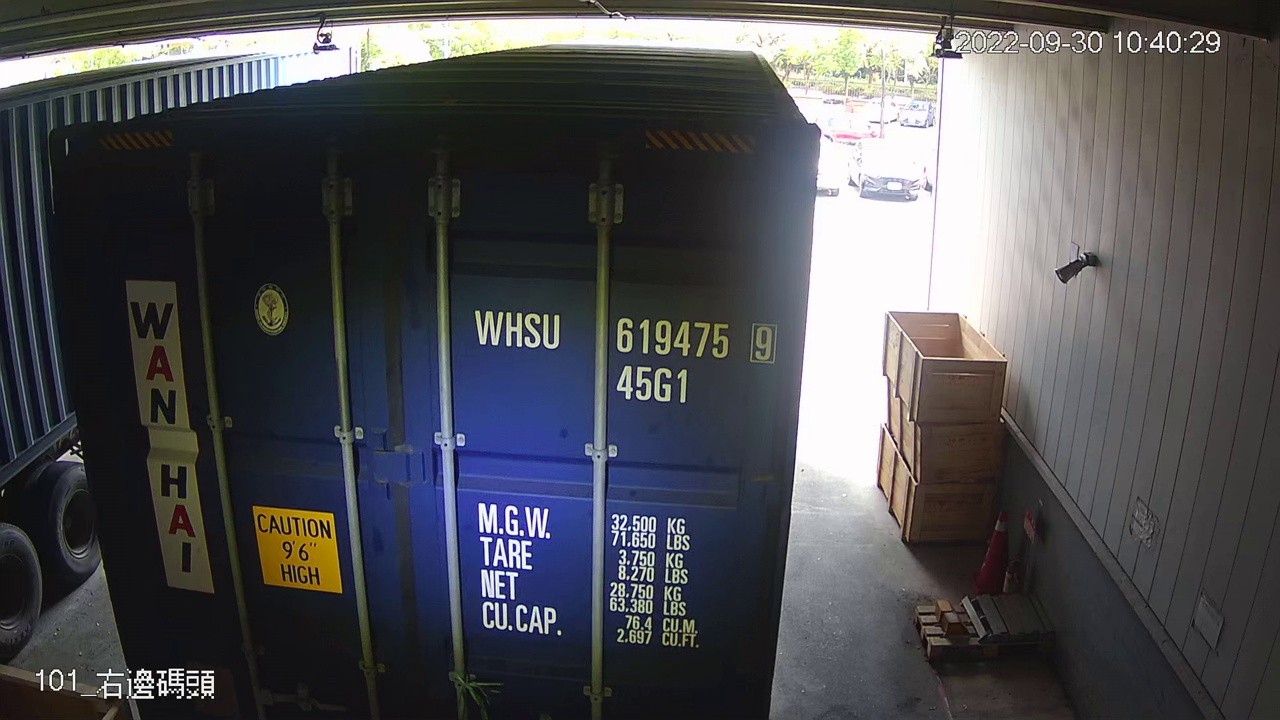container: (470, 299, 784, 409)
